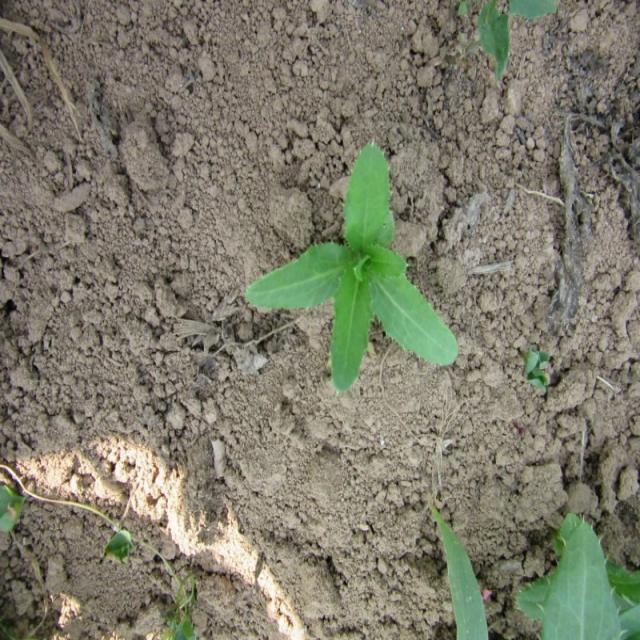field_thistle: (225, 160, 445, 369)
